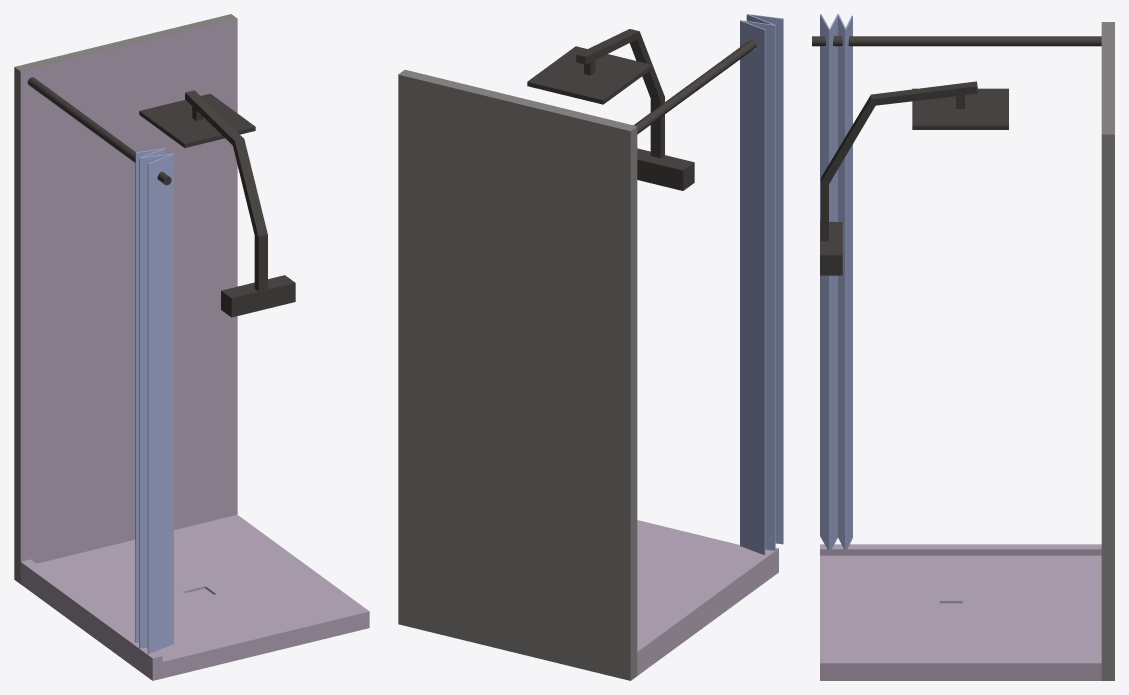
Rendered from Shower_02.fbx.
The picture shows the model from 3 angles, left to right: view 1: azimuth 30°, elevation 25°; view 2: azimuth 150°, elevation 25°; view 3: azimuth 270°, elevation 25°; orthographic projection. The views are drawn at different scales.
Parts seen in each view (by area): view 1: Shower_02; view 2: Shower_02; view 3: Shower_02.
Part boxes in pixels (x1,y1,x2,y2): Shower_02: [14, 14, 369, 680]; Shower_02: [398, 14, 783, 680]; Shower_02: [812, 14, 1114, 680].
Bounding box in the file's own units: 99.22 × 221 × 110.
